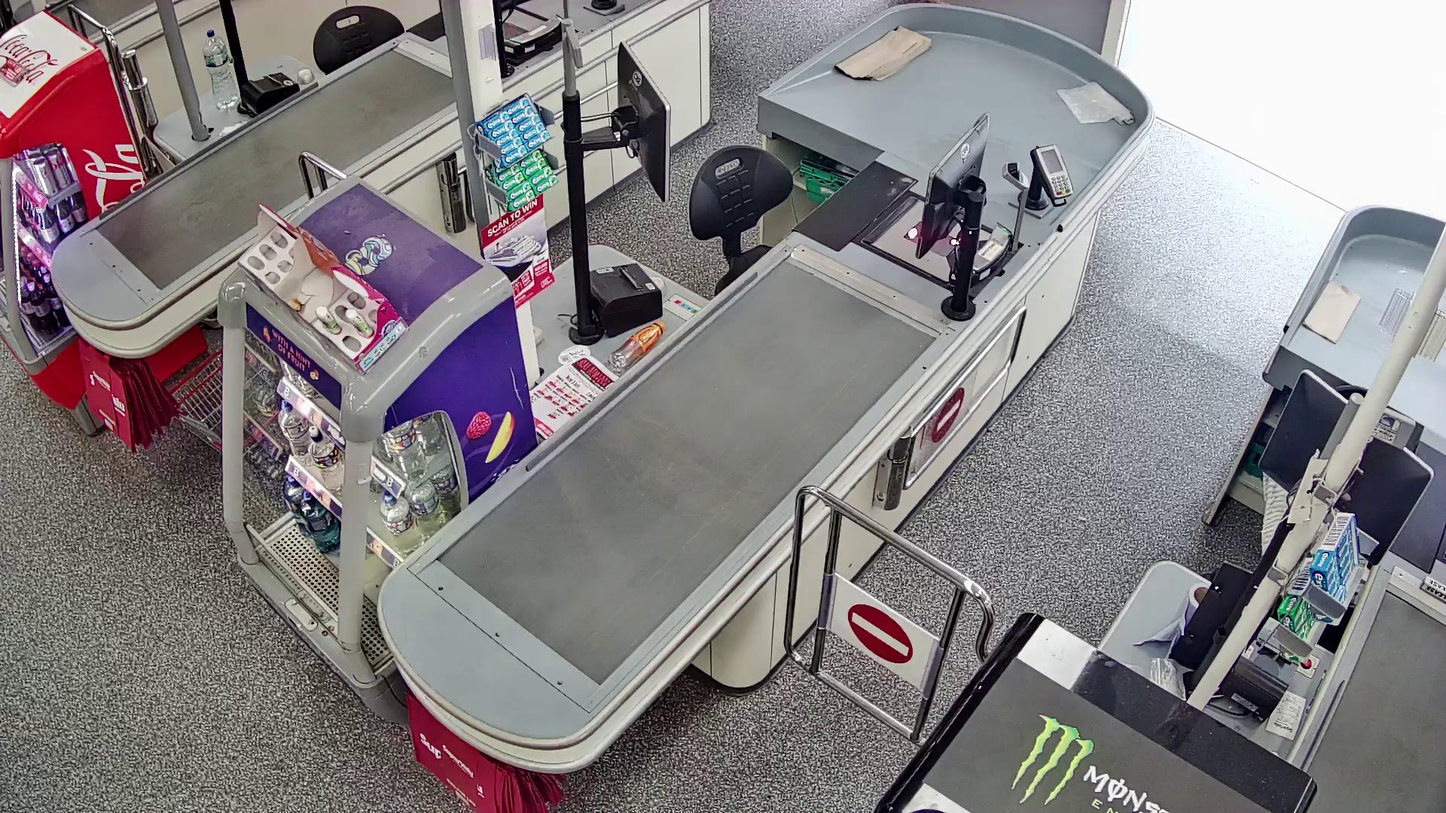vacant-checkout-counter: (557, 32, 1080, 345), (1220, 334, 1446, 739), (217, 0, 565, 127)
